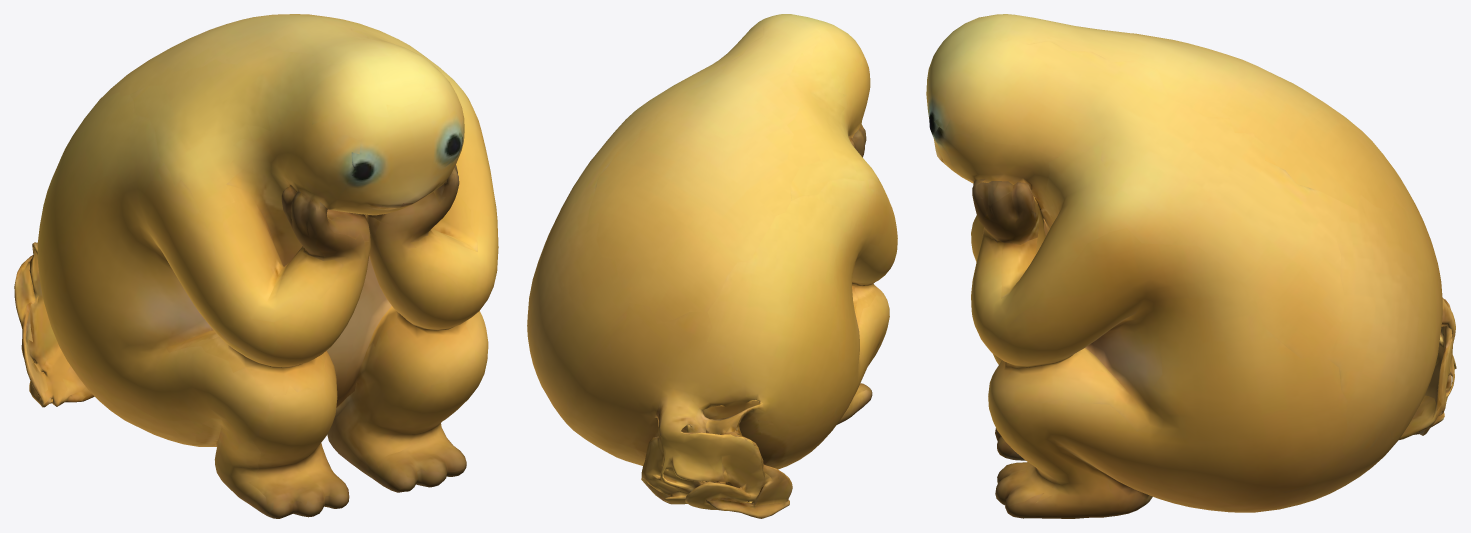
Rendered from thinker.glb.
3 views of the same model, side by side, from view 1: azimuth 30°, elevation 25°; view 2: azimuth 150°, elevation 25°; view 3: azimuth 270°, elevation 25° (orthographic). The views are drawn at different scales.
Visible parts, largest first — view 1: geometry_0; view 2: geometry_0; view 3: geometry_0.
Boxes of the visible parts, x1,y1,x2,y2 form: geometry_0: [14, 14, 498, 518]; geometry_0: [527, 14, 897, 518]; geometry_0: [926, 14, 1456, 518].
Bounding box in the file's own units: 0.1278 × 0.1496 × 0.16.
1 material, 1 textured.
